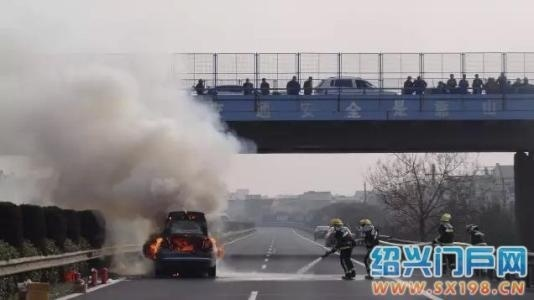fire: (144, 229, 223, 256)
